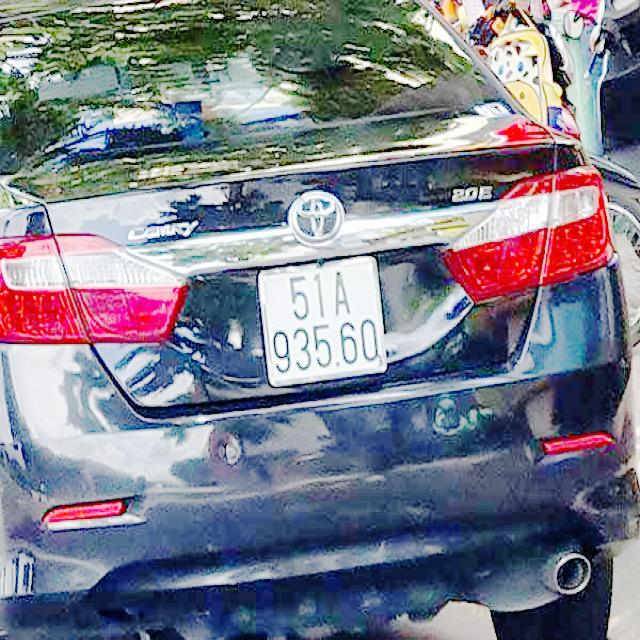license_plate: (260, 258, 389, 386)
